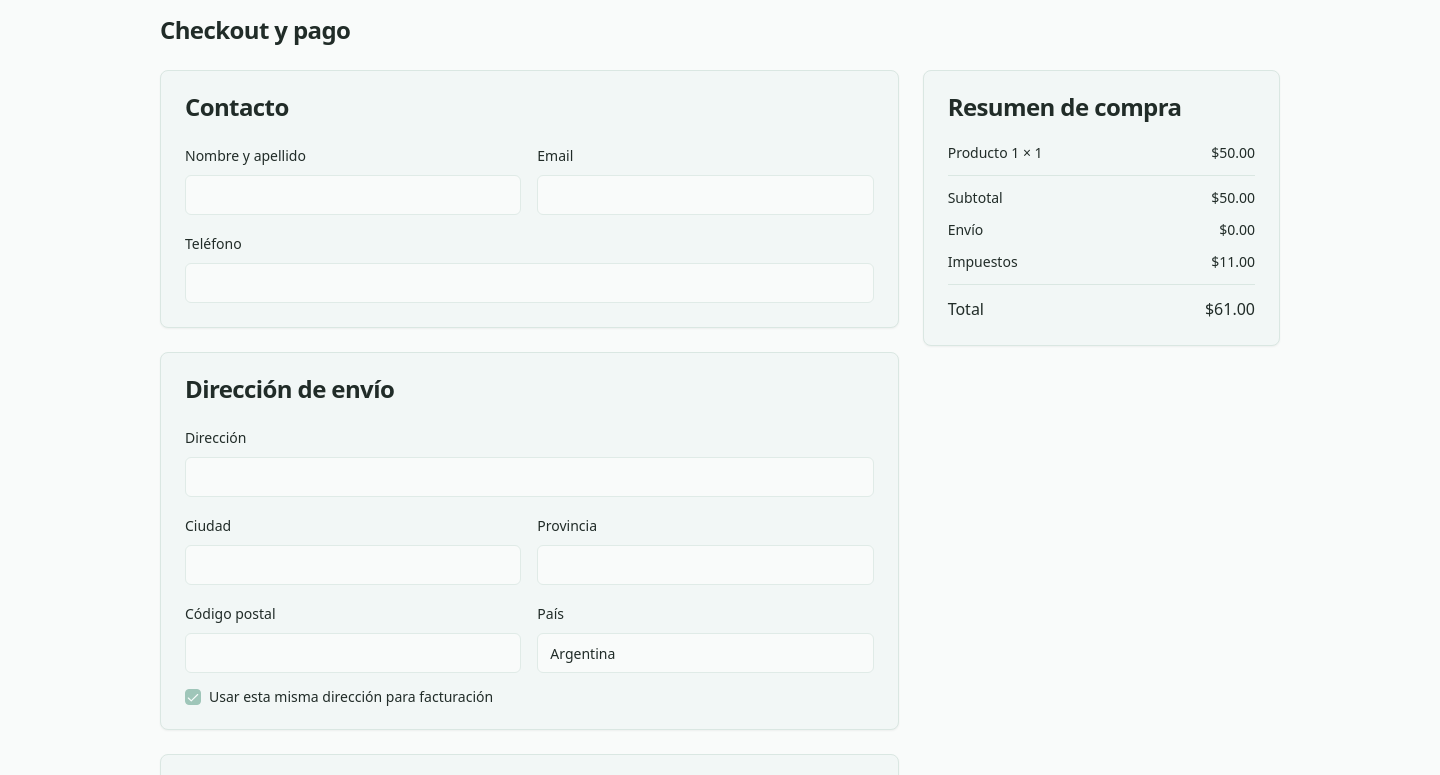
Checkout Page › allows user to toggle billing address
This screenshot has width=1440, height=775.
Click the checkbox at (193, 697), box [185,689,201,705]
(page scrolled)
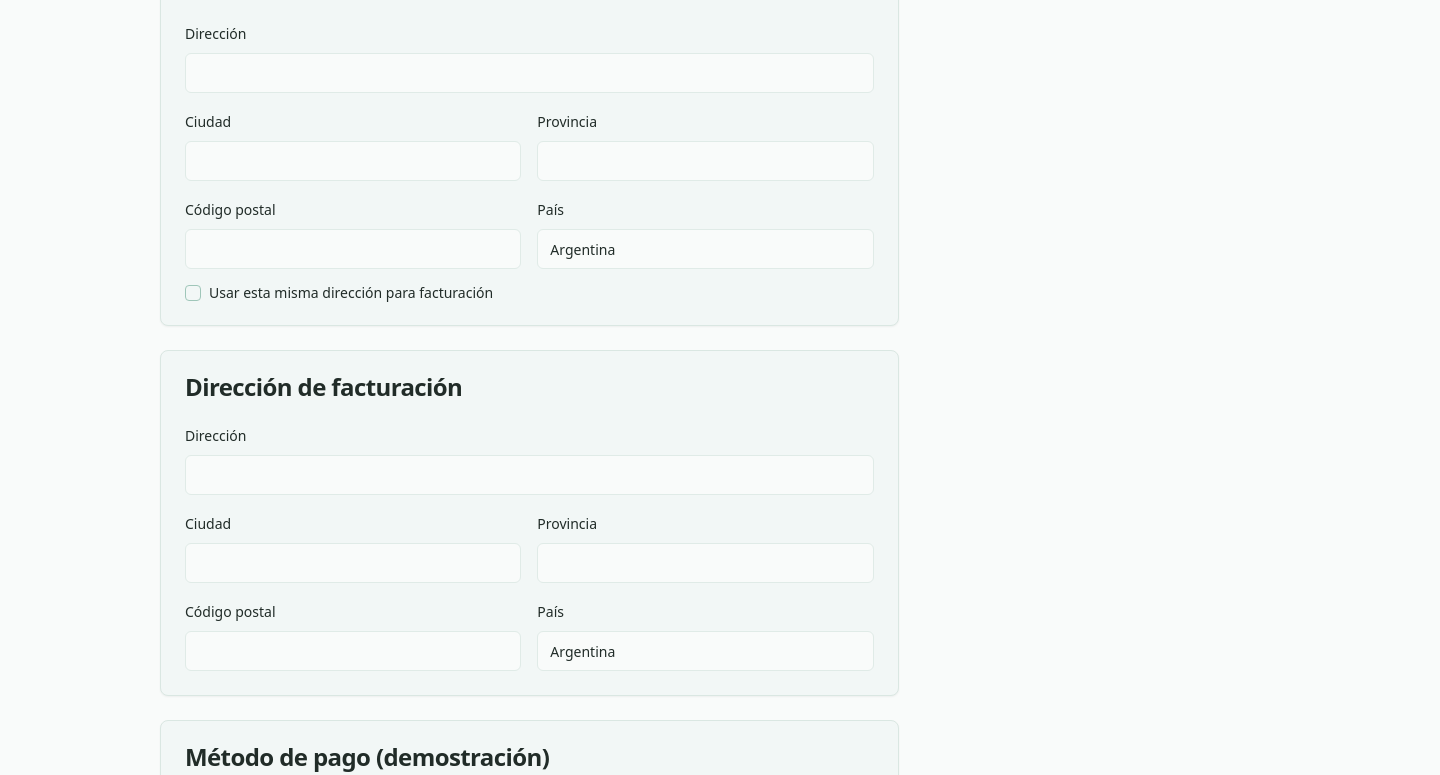
Now the heading "Dirección de facturación" is shown, box [185,370,462,403]
